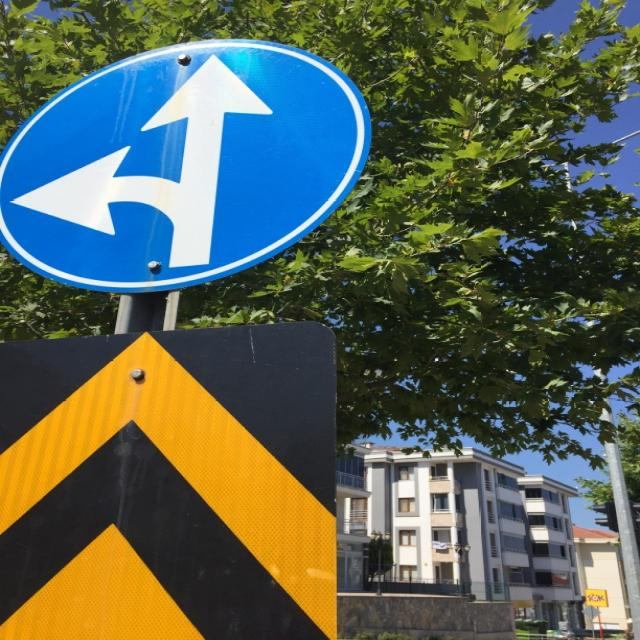ilerisol: (1, 39, 372, 294)
